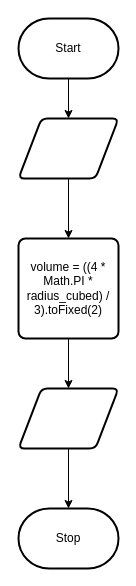
Some shapes in this 136 by 586 pixel diagram are drawn without their labels. Here are the shapes that lost their labels. From the top down, the box of each, then its label:
(17, 117, 119, 179): user inputs radius into search bar
(17, 387, 119, 449): outputs radius and volume
